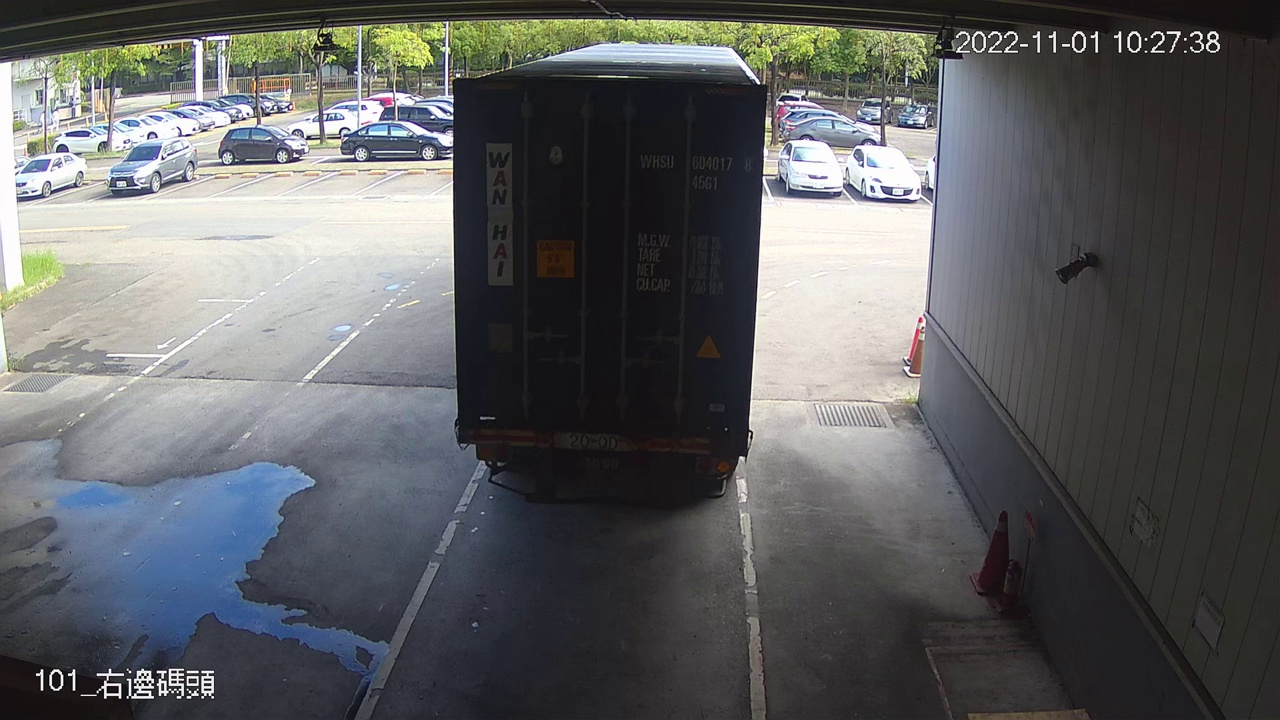container: (632, 145, 755, 194)
